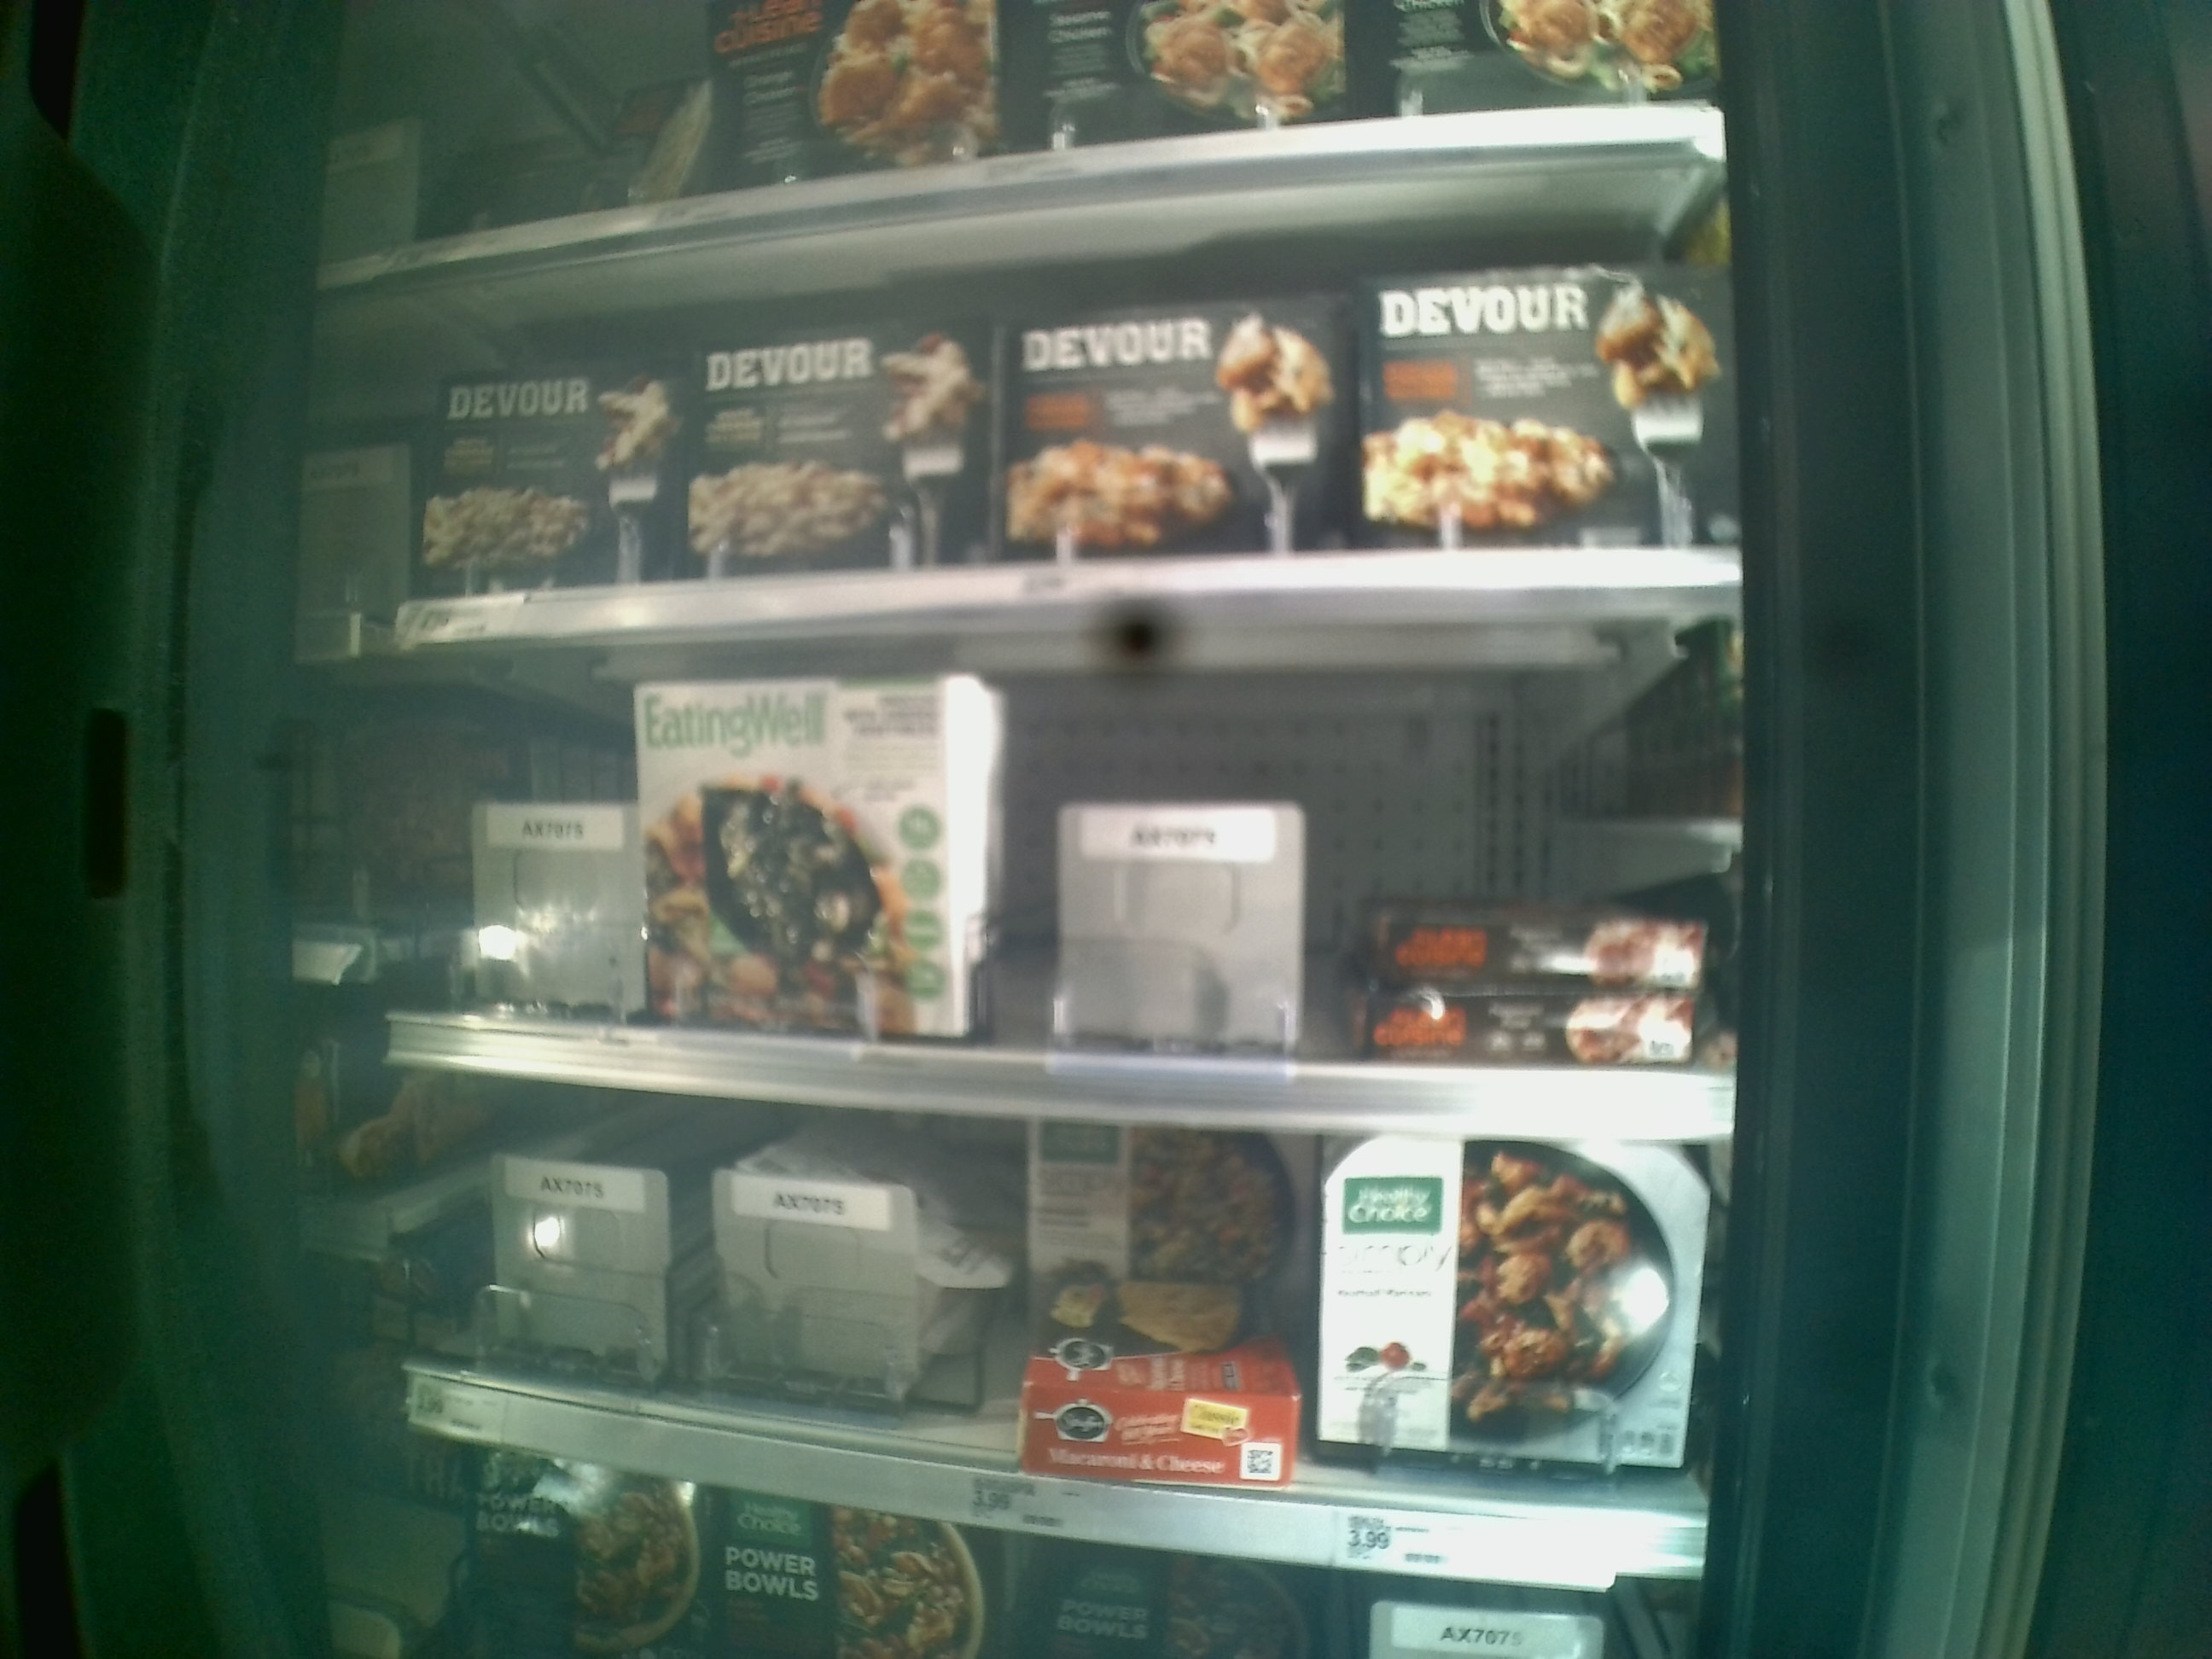shelf: (395, 591, 1742, 1134), (366, 1053, 1719, 1584)
